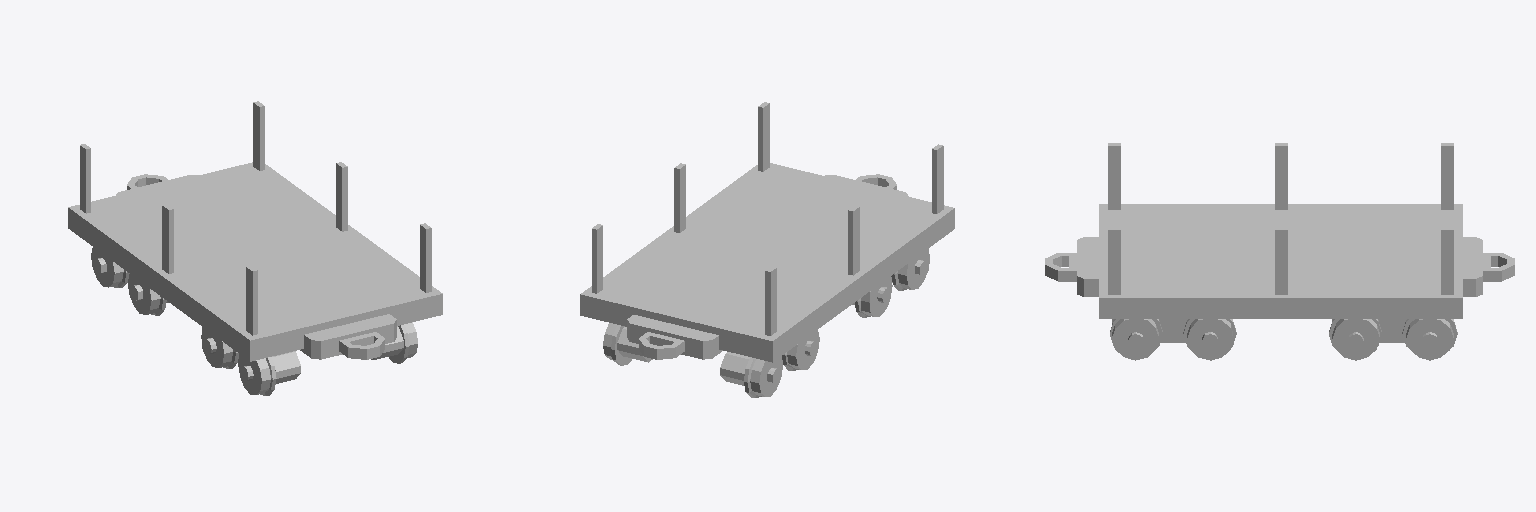
Rendered from WAGON.obj.
3 views of the same model, side by side, from view 1: azimuth 30°, elevation 25°; view 2: azimuth 150°, elevation 25°; view 3: azimuth 270°, elevation 25° (orthographic).
Parts seen in each view (by area): view 1: Group; view 2: Group; view 3: Group.
Part boxes in pixels (left/top/right/bottom): Group: left=68, top=101, right=442, bottom=395; Group: left=580, top=102, right=954, bottom=397; Group: left=1045, top=143, right=1514, bottom=360.
Size of the model in its own units: 84.7 by 58.27 by 179.